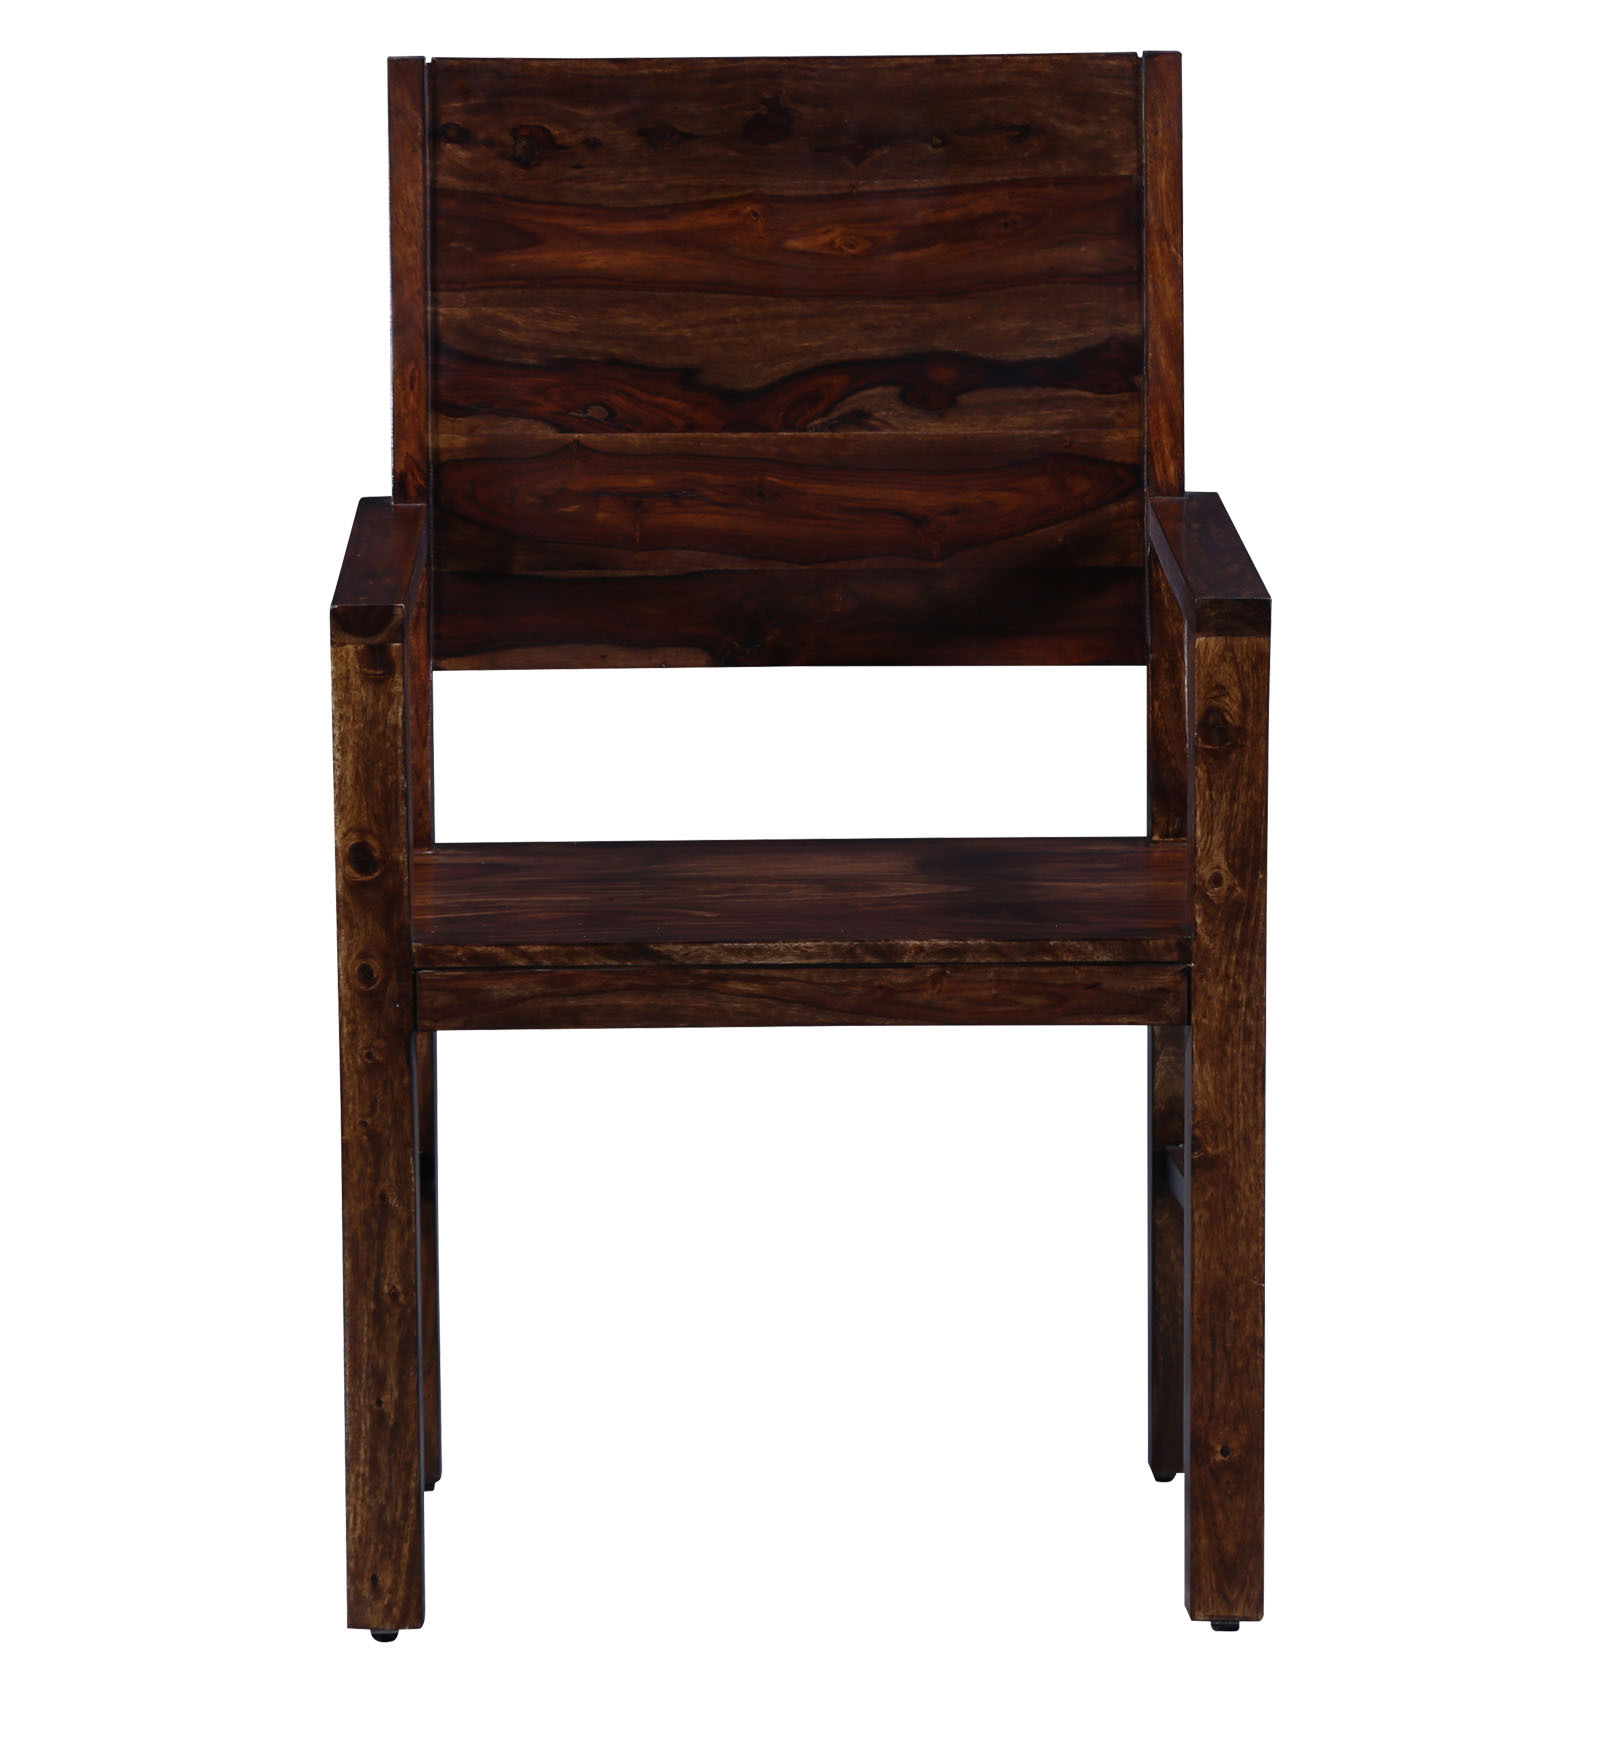Oriel Arm Chair in Provincial Teak Finish by Woodsworth: (319, 40, 1283, 1640)
